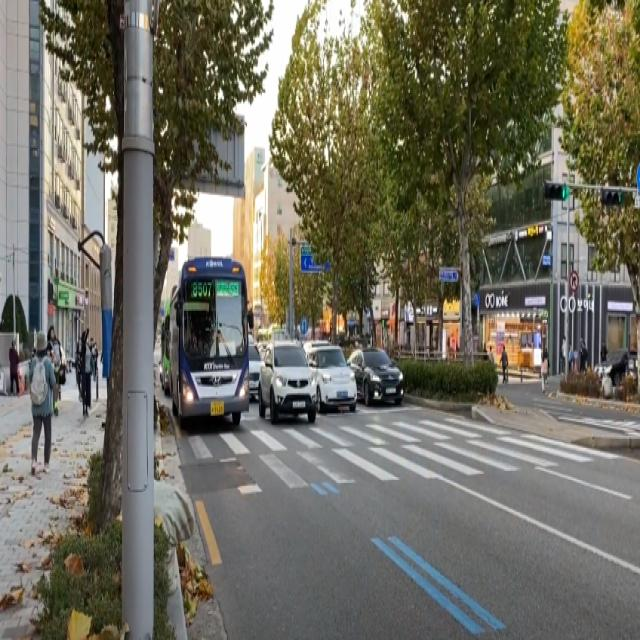bus-number: (192, 280, 212, 299)
